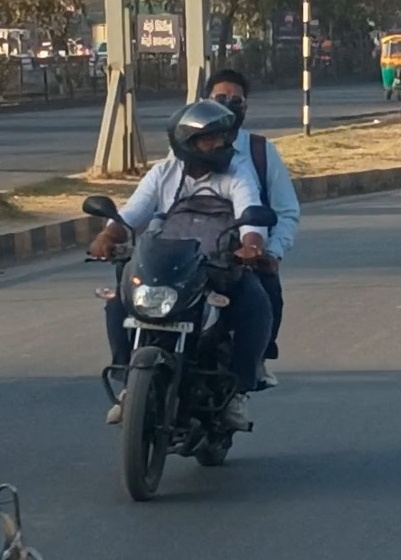BikeWithRider: (70, 62, 312, 508)
Helmet: (160, 96, 241, 178)
NoHelmet: (198, 64, 255, 133)
